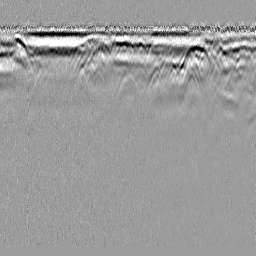cavity: (115, 72, 140, 102)
